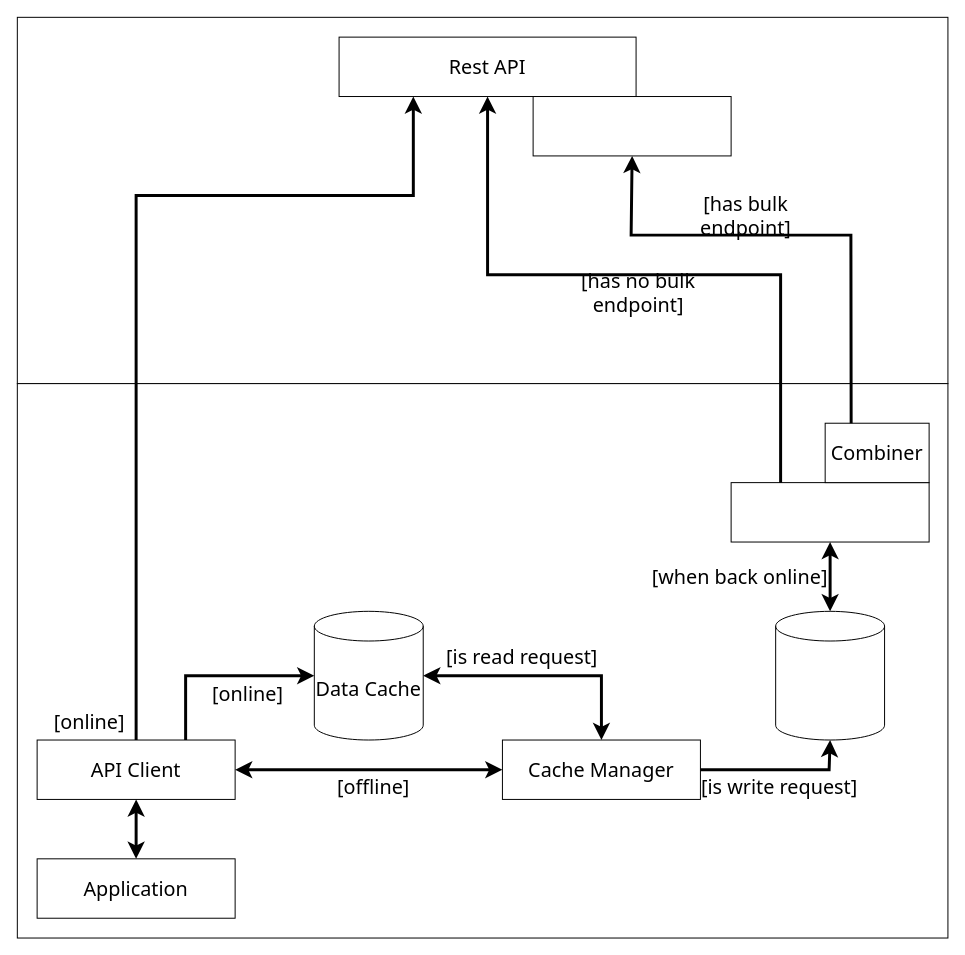
This 965x955 diagram has some shape labels left out. Each missing label, with the centre of its shape:
Distributer: (x=631, y=126)
Synchronizer: (x=829, y=512)
Writing Buffer: (x=830, y=675)
